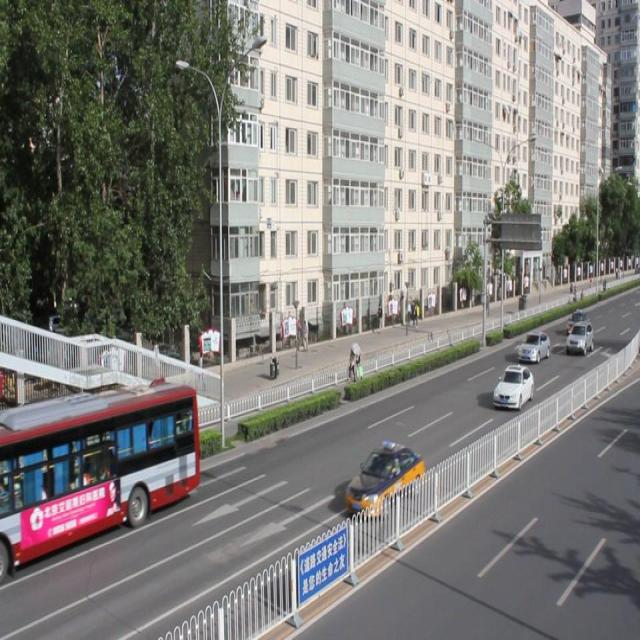car: (344, 442, 426, 520), (491, 363, 533, 411), (516, 329, 550, 366)
van: (0, 391, 196, 552)
